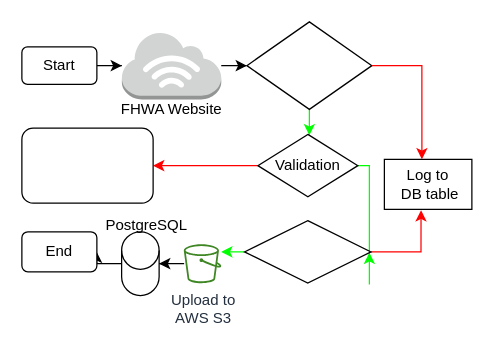
This 494x350 diagram has some shape labels left out. The shapes that lost their labels are listed below. From the top down, each one's centre as x and y in pixels, then its label:
At pixel 309 65: "Download XML/Zip files".
At pixel 87 165: "Log on server".
At pixel 307 251: "Convert to csv".
